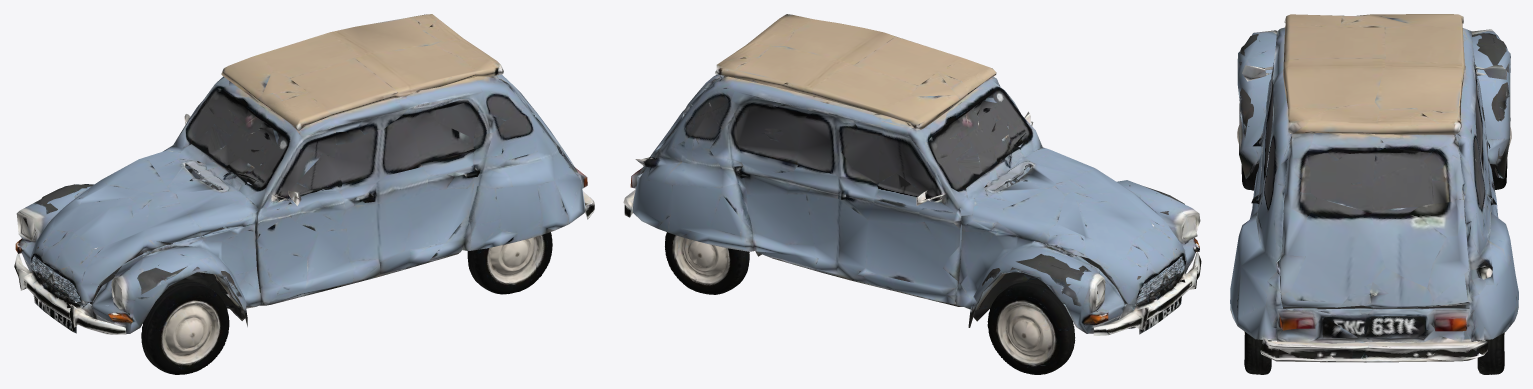
File: french-cheese-SHRINK.glb
The picture shows the model from 3 angles, left to right: view 1: azimuth 30°, elevation 25°; view 2: azimuth 150°, elevation 25°; view 3: azimuth 270°, elevation 25°; orthographic projection. The views are drawn at different scales.
Parts seen in each view (by area): view 1: object 1, Wheel_FL, Wheel_RL; view 2: object 1, Wheel_FR, Wheel_RR; view 3: object 1, Wheel_RR, Wheel_RL, Wheel_FL, Wheel_FR.
Boxes of the visible parts, x1,y1,x2,y2 form: object 1: [14, 14, 594, 334]; Wheel_FL: [141, 282, 229, 374]; Wheel_RL: [467, 232, 552, 294]; object 1: [623, 14, 1201, 335]; Wheel_FR: [987, 282, 1075, 374]; Wheel_RR: [665, 232, 749, 294]; object 1: [1230, 14, 1518, 362]; Wheel_RR: [1477, 332, 1504, 374]; Wheel_RL: [1244, 331, 1271, 374]; Wheel_FL: [1237, 125, 1258, 190]; Wheel_FR: [1490, 127, 1511, 189].
Size of the model in its own units: 1.9 by 0.7739 by 0.7992.
Materials: 1 (1 with a texture image).
